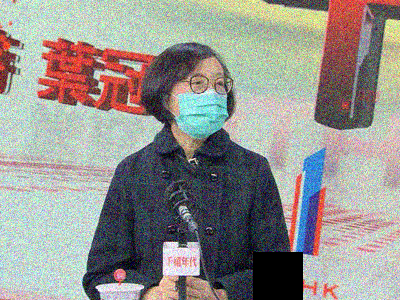with_mask: (171, 70, 232, 141)
